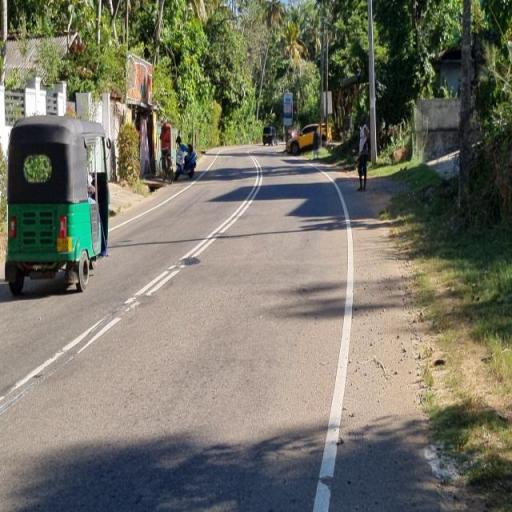double_white_line: (126, 158, 264, 309)
